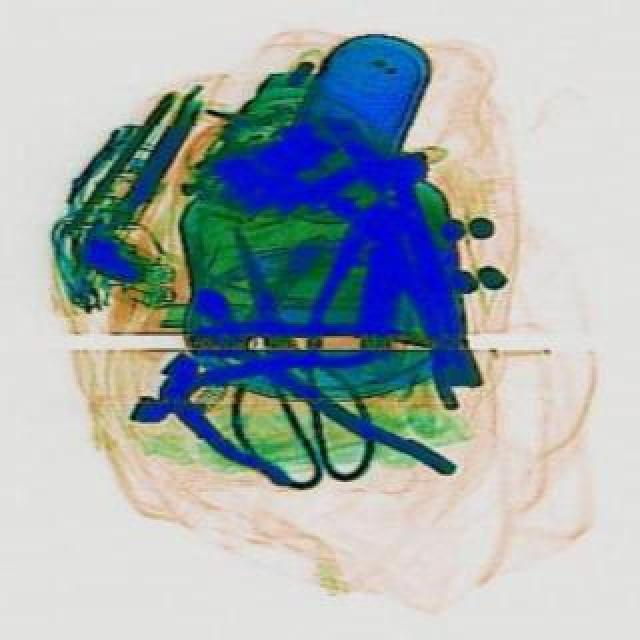pliers: (172, 212, 394, 512)
